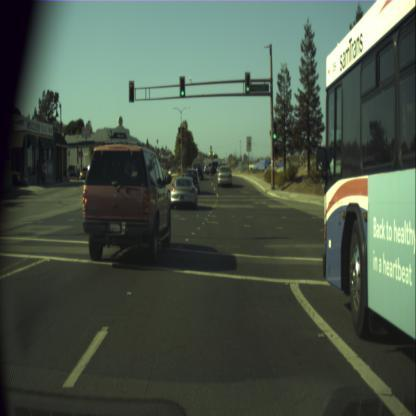Green: (245, 71, 250, 92), (180, 76, 184, 96), (273, 122, 276, 138)
RedLeft: (128, 80, 134, 102)
